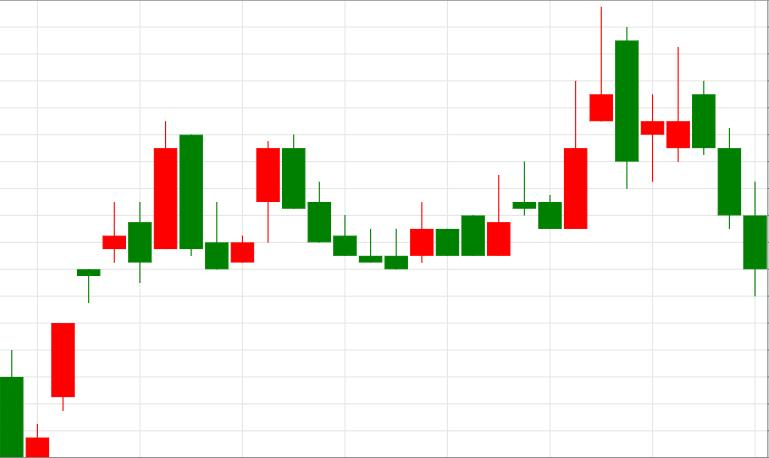shooting_star_fall: (488, 6, 612, 255)
